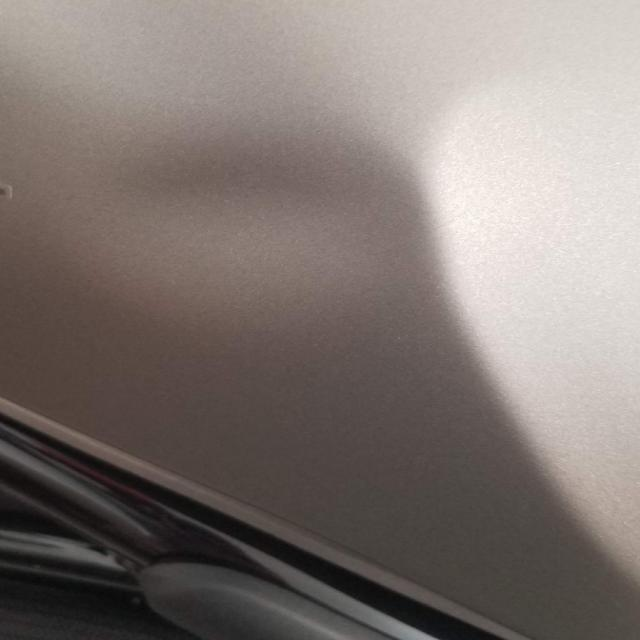dents: (36, 104, 439, 335)
